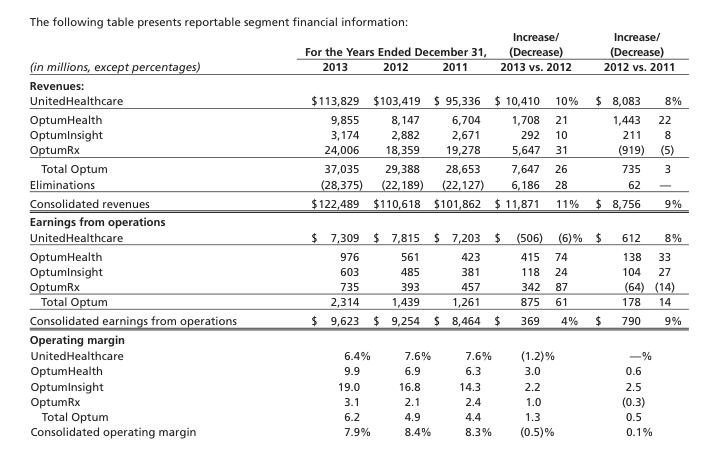table: (28, 29, 681, 437)
table column: (28, 29, 269, 437), (269, 29, 371, 437), (588, 29, 653, 437), (492, 29, 554, 437), (431, 29, 492, 437), (371, 29, 431, 437), (554, 29, 588, 437), (653, 29, 681, 437)
table column header: (28, 29, 681, 75)
table projected row header: (28, 329, 681, 347), (28, 75, 681, 92), (28, 212, 681, 229)
table row: (28, 29, 681, 58), (28, 193, 681, 212), (28, 310, 681, 329), (28, 329, 681, 347), (28, 58, 681, 75), (28, 75, 681, 92), (28, 92, 681, 109), (28, 109, 681, 126), (28, 142, 681, 159), (28, 159, 681, 176), (28, 176, 681, 193), (28, 212, 681, 229), (28, 229, 681, 246), (28, 246, 681, 263), (28, 293, 681, 310), (28, 126, 681, 142), (28, 362, 681, 378), (28, 263, 681, 278), (28, 278, 681, 293), (28, 347, 681, 362), (28, 378, 681, 393), (28, 393, 681, 408), (28, 408, 681, 423), (28, 423, 681, 437)
table spanning cell: (28, 29, 269, 75), (269, 29, 492, 58), (492, 29, 588, 75), (588, 29, 681, 75)
